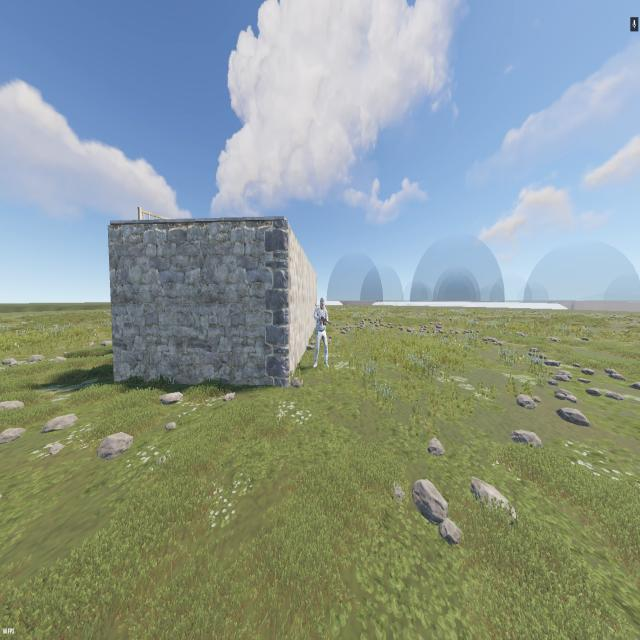Player: (313, 297, 329, 368)
